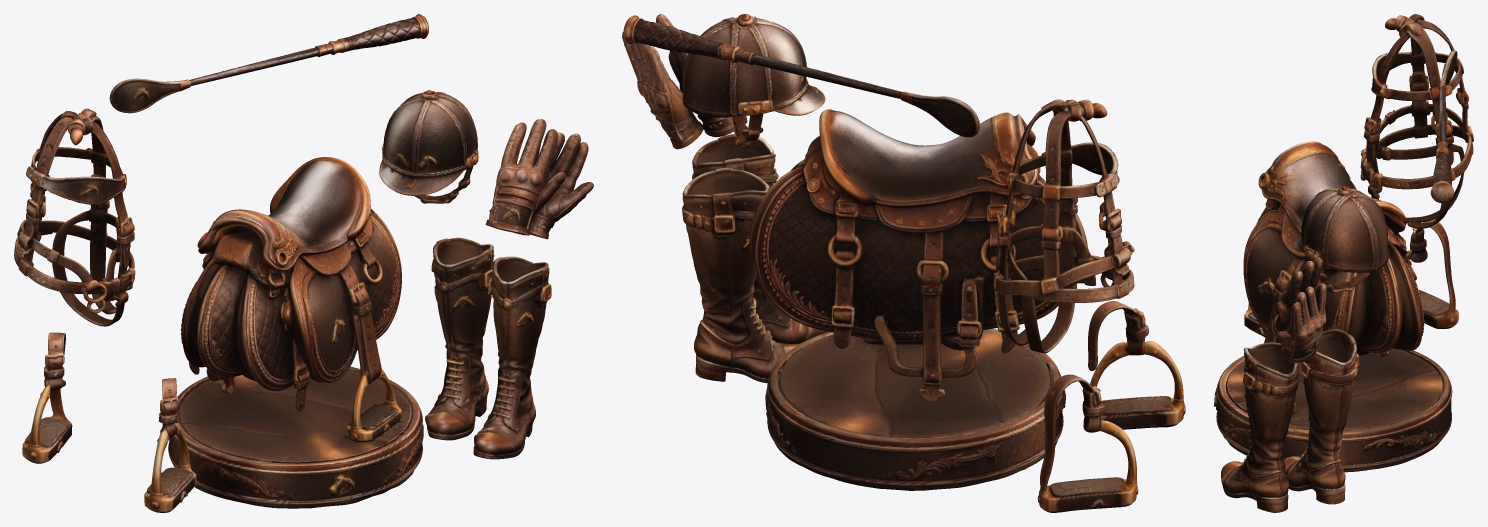
Rendered from riding-tack.glb.
The picture shows the model from 3 angles, left to right: view 1: azimuth 30°, elevation 25°; view 2: azimuth 150°, elevation 25°; view 3: azimuth 270°, elevation 25°; orthographic projection. The views are drawn at different scales.
Parts seen in each view (by area): view 1: tripo_node_2bb9963e-376f-49f8-8249-73569fa128bf; view 2: tripo_node_2bb9963e-376f-49f8-8249-73569fa128bf; view 3: tripo_node_2bb9963e-376f-49f8-8249-73569fa128bf.
Boxes of the visible parts, x1,y1,x2,y2 form: tripo_node_2bb9963e-376f-49f8-8249-73569fa128bf: [14, 14, 593, 512]; tripo_node_2bb9963e-376f-49f8-8249-73569fa128bf: [622, 14, 1185, 512]; tripo_node_2bb9963e-376f-49f8-8249-73569fa128bf: [1214, 14, 1473, 512].
Bounding box in the file's own units: 0.9804 × 0.665 × 0.4778.
1 material, 1 textured.
